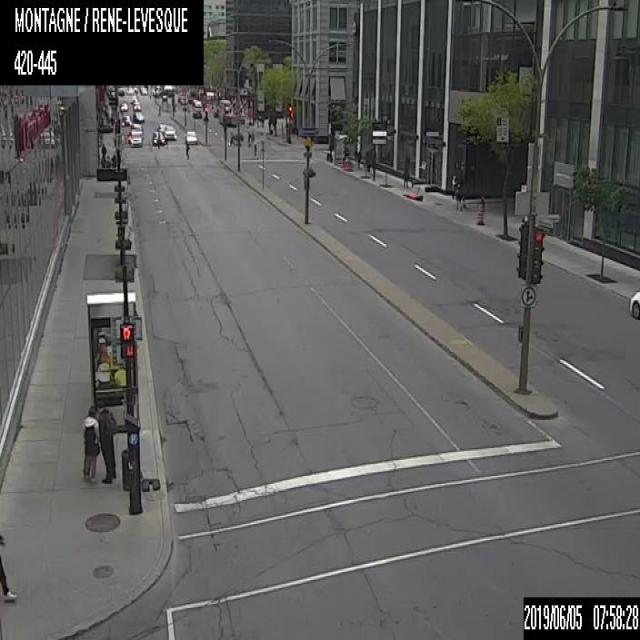construction: (476, 202, 484, 224)
pedestrian: (79, 398, 100, 482), (96, 402, 116, 484), (0, 534, 18, 598), (454, 182, 462, 210), (99, 141, 106, 167), (355, 147, 361, 168), (184, 136, 189, 160), (229, 133, 235, 148), (156, 131, 161, 148), (253, 141, 256, 157)
vehicle: (628, 289, 639, 319), (129, 125, 143, 146), (184, 127, 197, 144), (163, 123, 176, 138), (151, 130, 164, 144), (132, 110, 145, 122), (192, 104, 203, 117), (120, 114, 132, 125), (175, 93, 188, 103), (119, 100, 127, 109), (133, 102, 141, 110)
